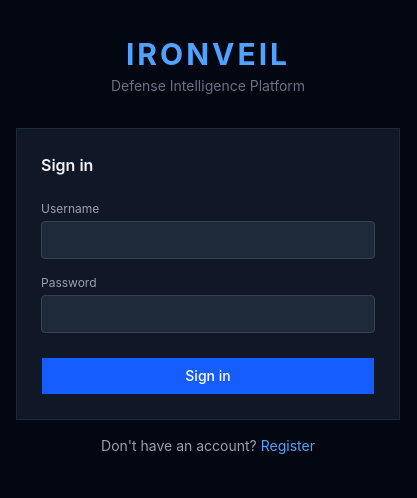
Test: LoginPage › shows an error message when login fails
Type "admin" into the field labelled "Username" at (208, 240), box [41, 221, 375, 259]
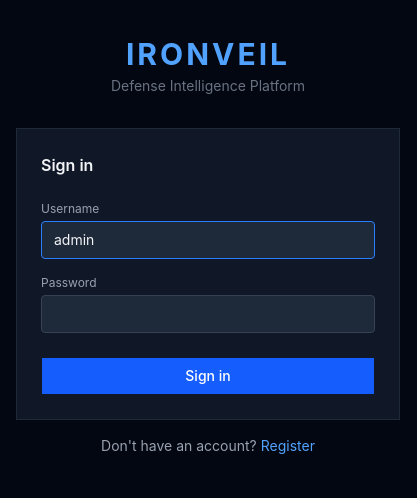
Type "wrongpassword" into the password field labelled "Password" at (208, 314), box [41, 295, 375, 333]
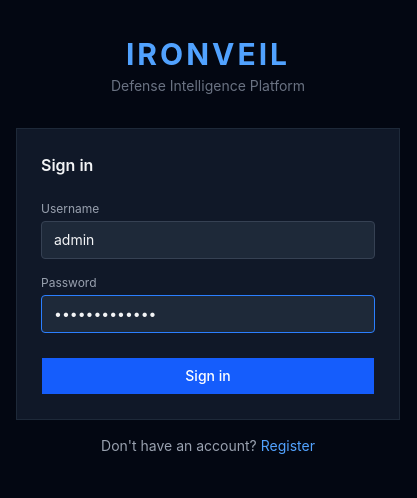
Click the button "Sign in" at (208, 376), box [41, 357, 375, 395]
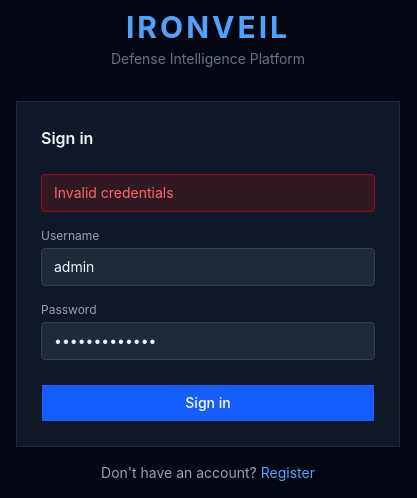
Check: the message with test id "login-error" reads "Invalid credentials", box [54, 184, 174, 201]
